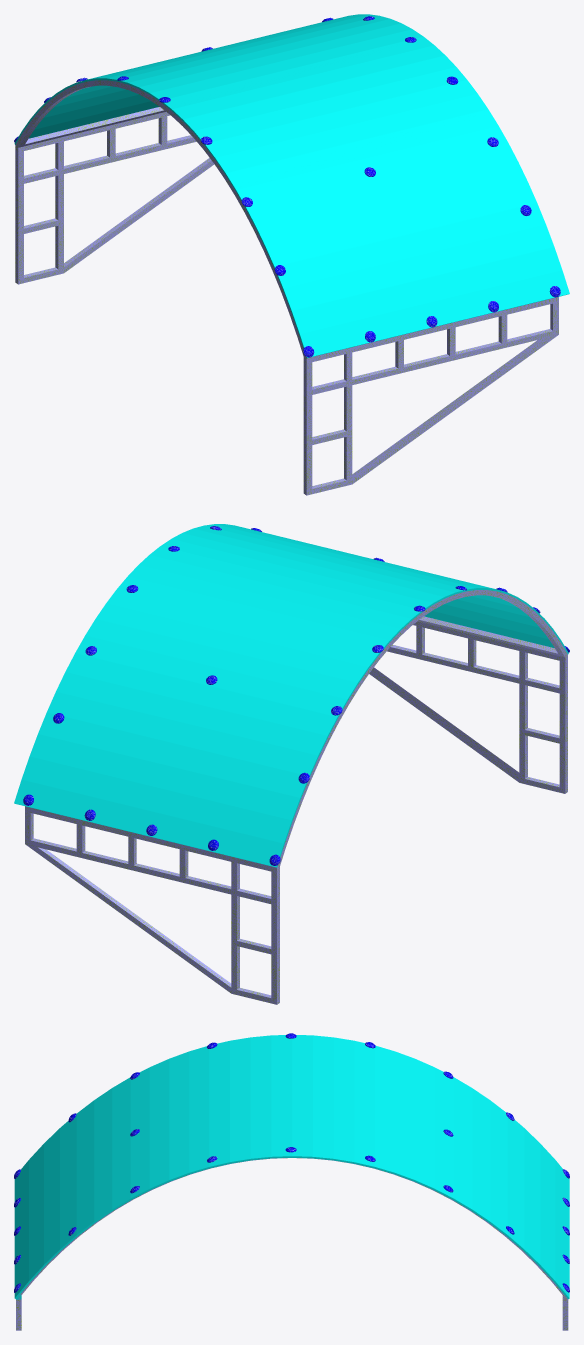
Rendered from Kozurok3.glb.
3 renders of one model, top to bottom at view 1: azimuth 30°, elevation 25°; view 2: azimuth 150°, elevation 25°; view 3: azimuth 270°, elevation 25°, orthographic. The views are drawn at different scales.
Parts seen in each view (by area): view 1: group_0, group_1; view 2: group_0, group_1; view 3: group_0, group_1.
Boxes of the visible parts, x1,y1,x2,y2 form: group_0: (14,14,569,358); group_1: (15,80,558,495); group_0: (14,524,568,867); group_1: (25,590,567,1004); group_0: (14,1035,569,1299); group_1: (16,1158,568,1330).
Size of the model in its own units: 10.92 by 11.44 by 20.95.
